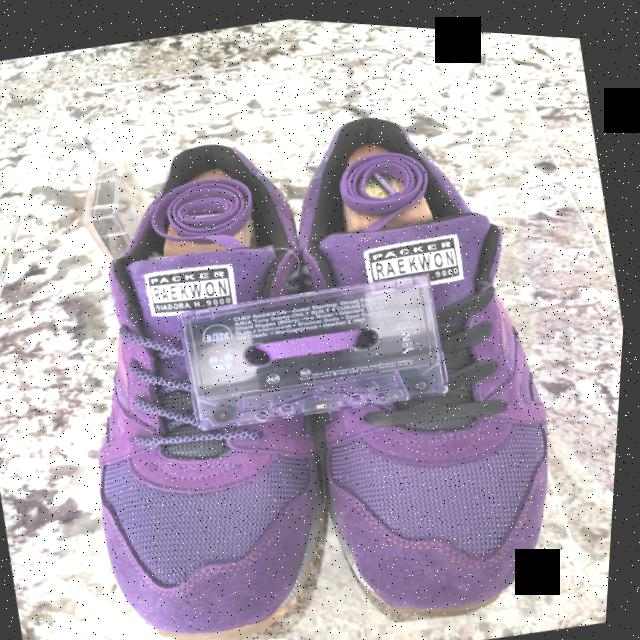shoes: (234, 72, 613, 640), (21, 103, 391, 640)
